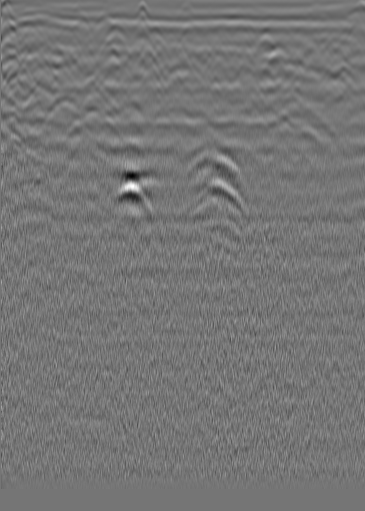가스: (112, 173, 154, 207)
상수: (293, 27, 313, 47)
오수: (15, 18, 35, 38)
우수: (179, 25, 199, 45)
